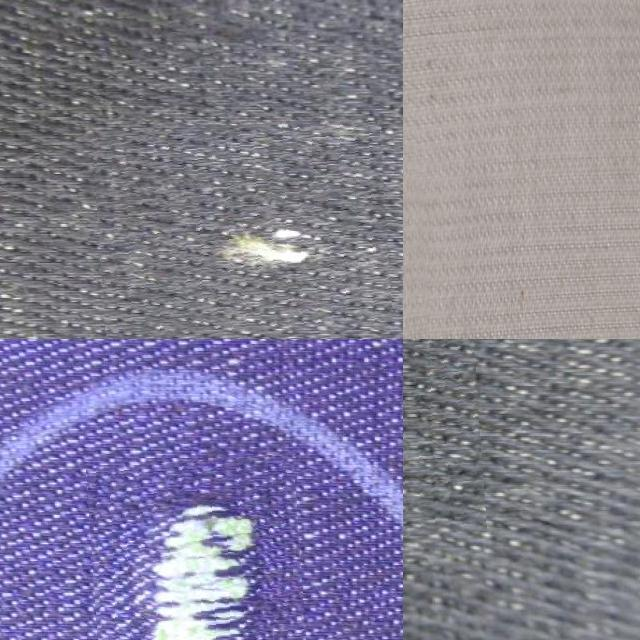stains: (96, 120, 390, 336), (91, 456, 310, 640), (403, 339, 481, 542)
